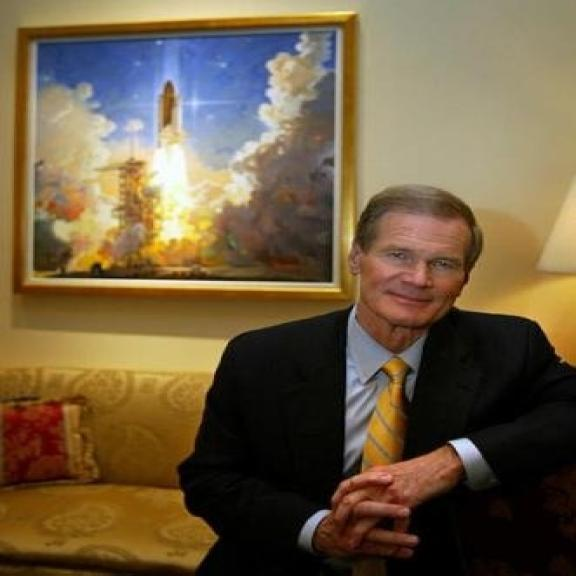face: (342, 180, 478, 330)
